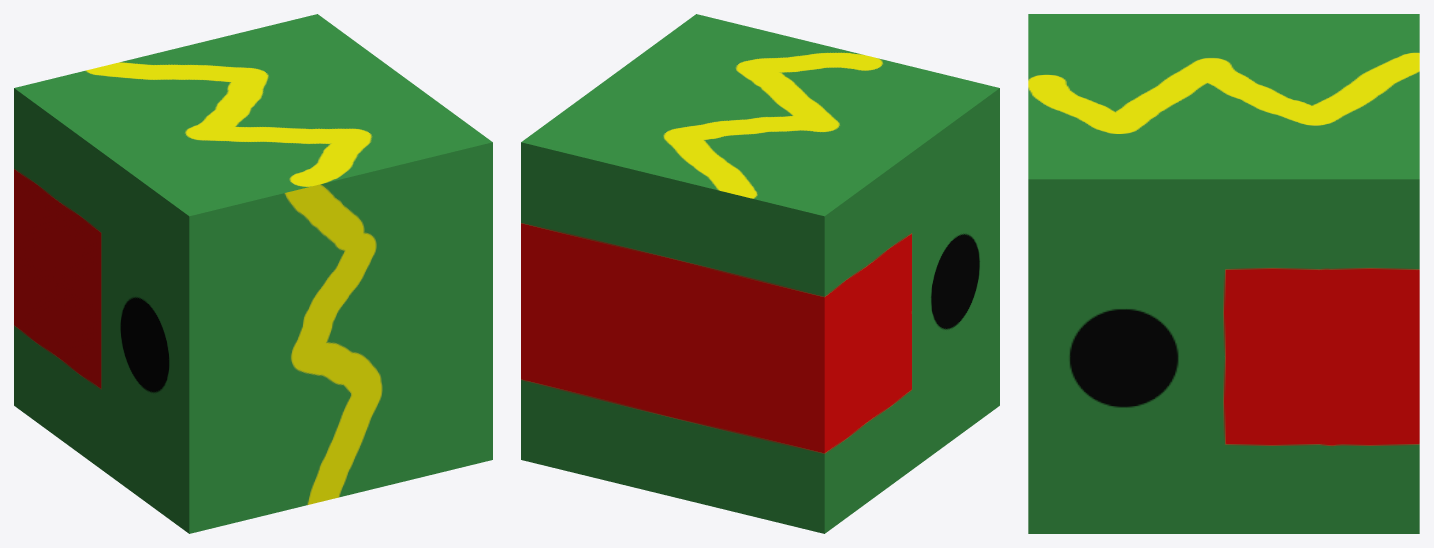
The model's file is Player.obj.
3 renders of one model, left to right at view 1: azimuth 30°, elevation 25°; view 2: azimuth 150°, elevation 25°; view 3: azimuth 270°, elevation 25°, orthographic. The views are drawn at different scales.
Visible parts, largest first — view 1: Cube; view 2: Cube; view 3: Cube.
Boxes of the visible parts, bbox=[...] form: Cube: bbox=[14, 14, 492, 533]; Cube: bbox=[521, 14, 999, 533]; Cube: bbox=[1028, 14, 1419, 533].
Bounding box in the file's own units: 2 × 2 × 2.
1 material, 1 textured.
